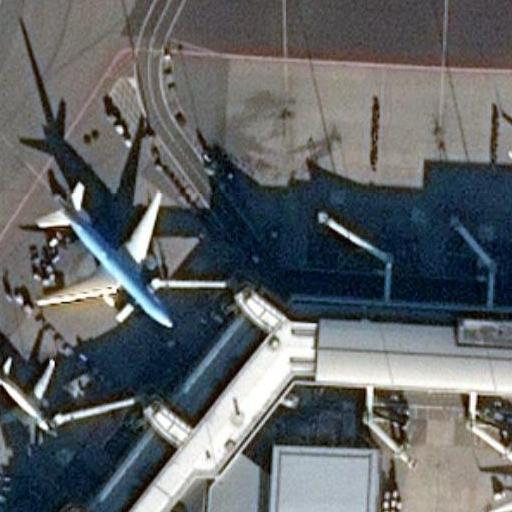Aircraft: (28, 176, 177, 331), (0, 353, 63, 440), (485, 458, 512, 512), (506, 106, 512, 216)
